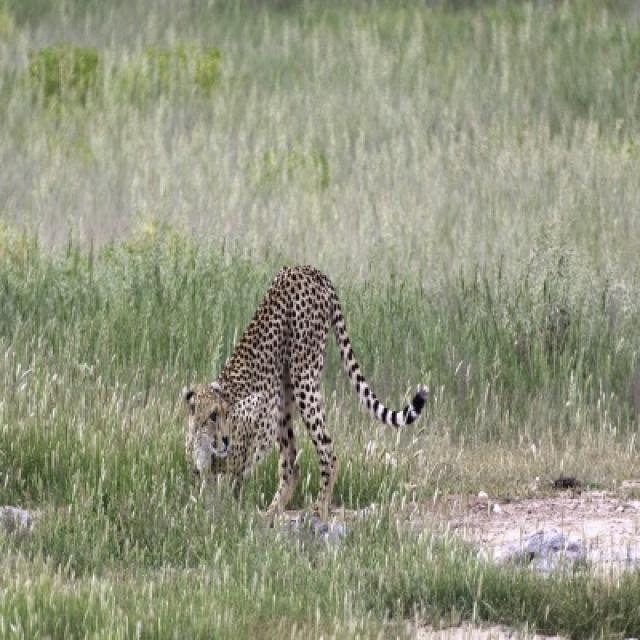Cheetah: (181, 270, 437, 526)
